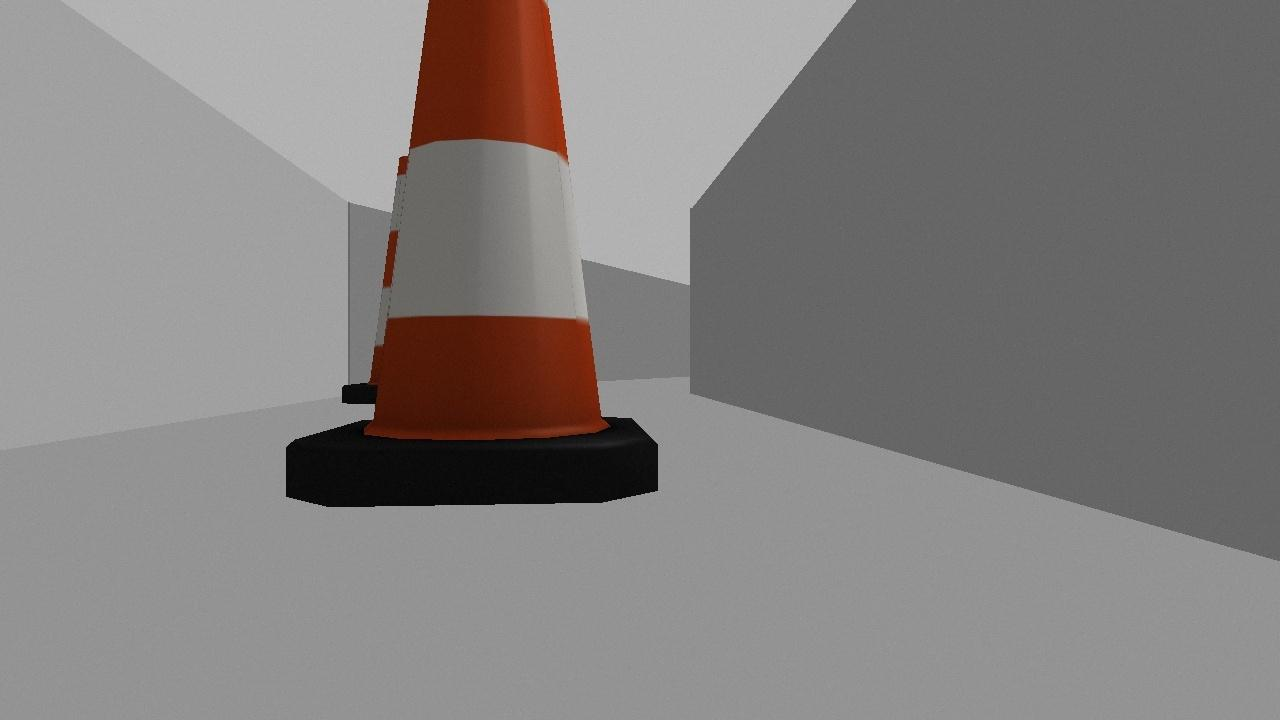cone_barrel: (285, 0, 659, 505)
